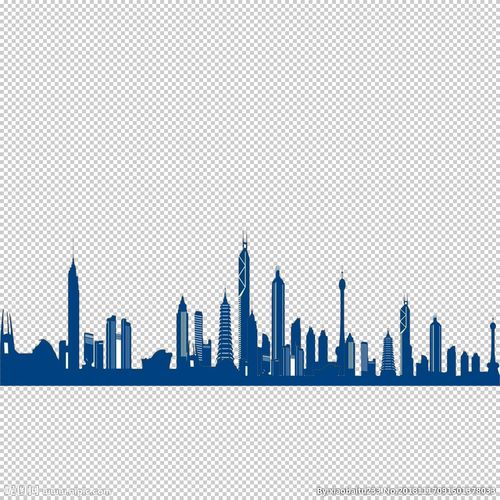buildings: (27, 29, 476, 359)
